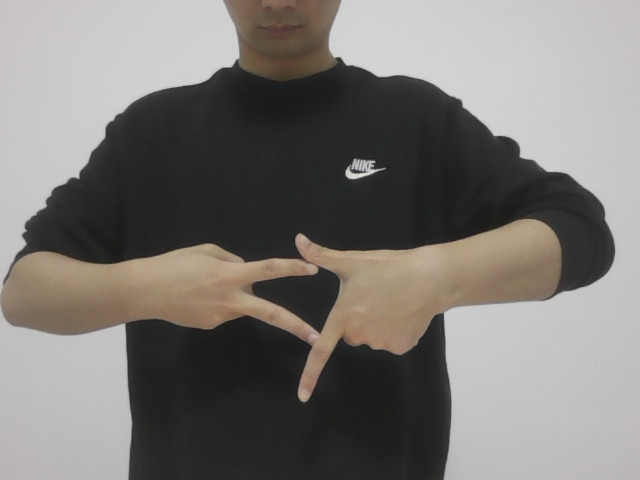introduce: (146, 216, 437, 407)
